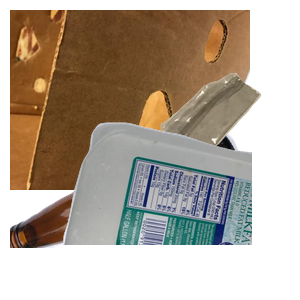cardboard: (10, 10, 250, 190)
glass: (10, 120, 247, 300)
plastic: (60, 120, 300, 300)
trash: (158, 71, 300, 227)
